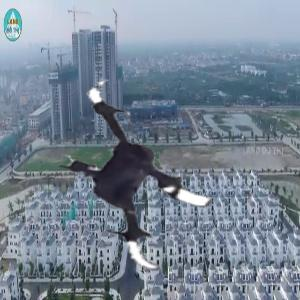drone: (43, 76, 244, 277)
